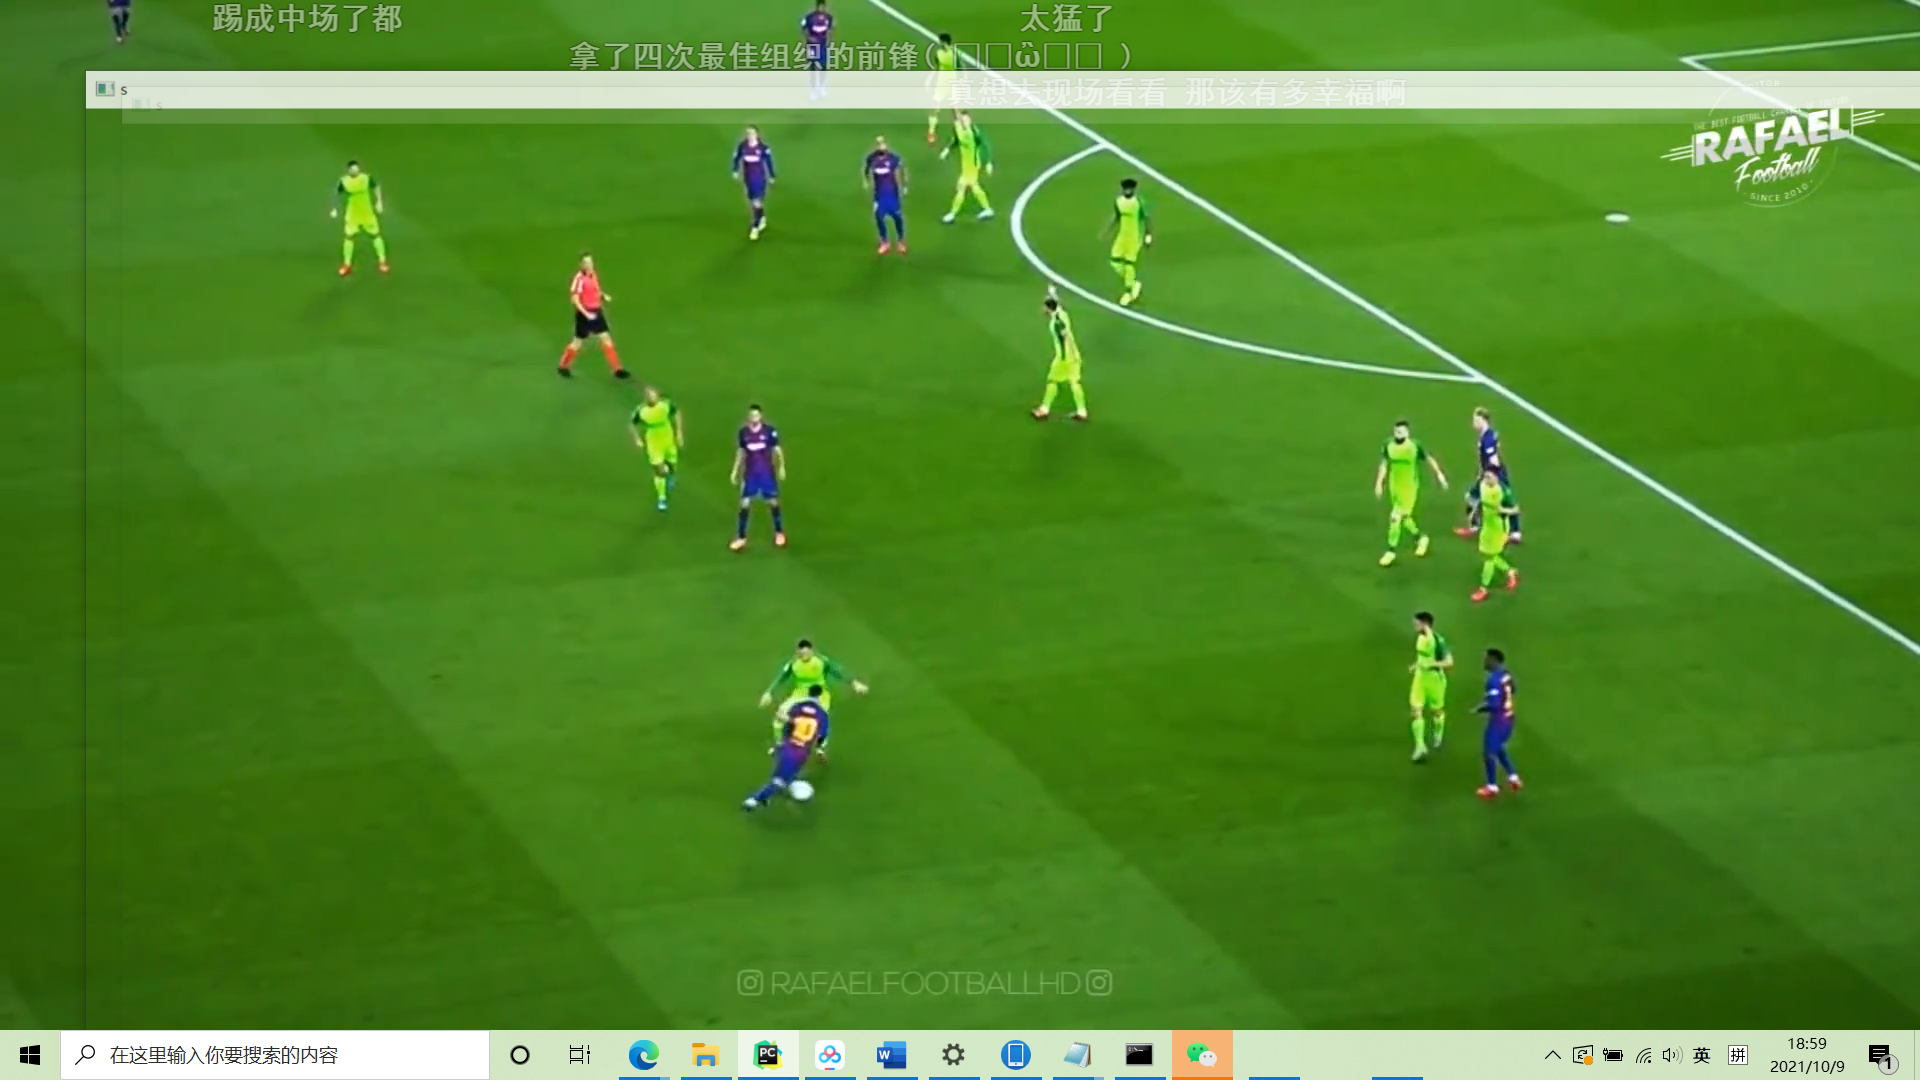ft: (789, 777, 818, 804)
